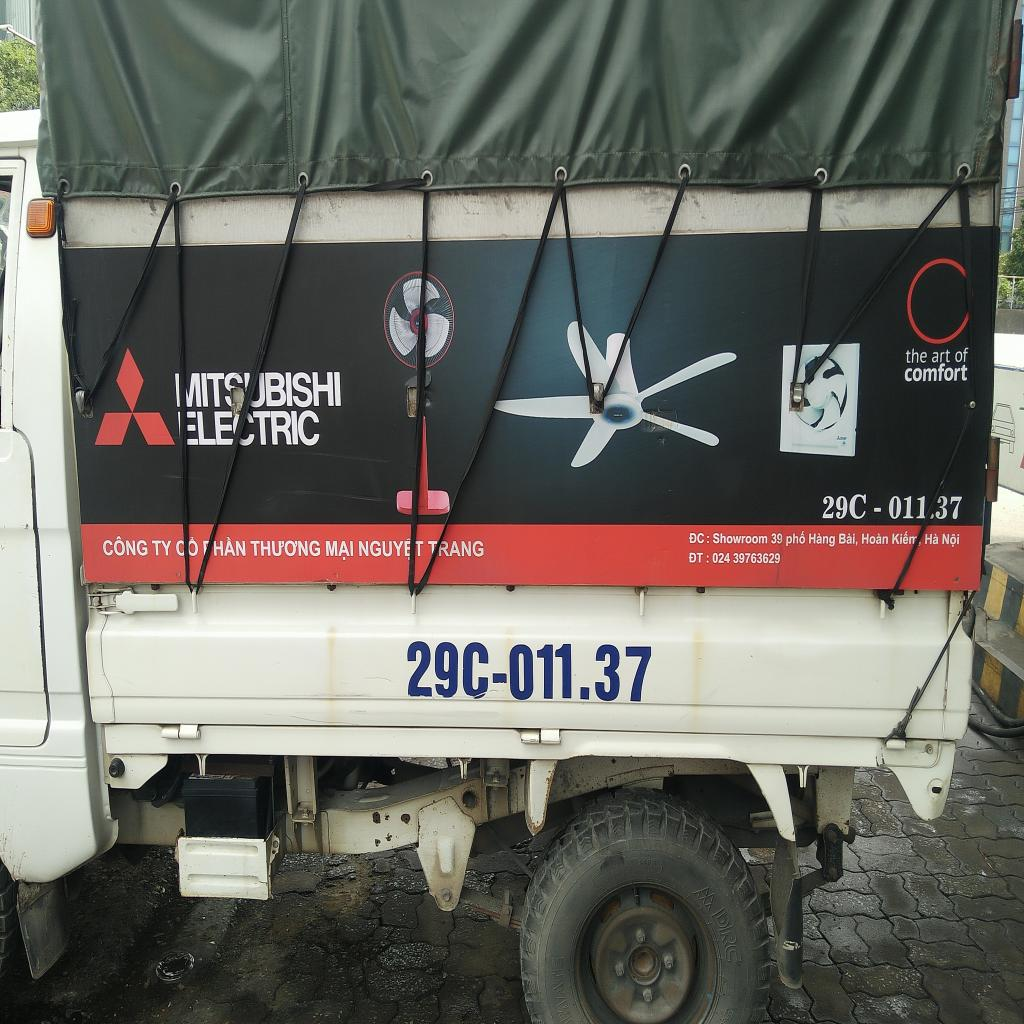text: (402, 632, 656, 703), (264, 368, 344, 412), (253, 411, 322, 450), (709, 904, 745, 964), (249, 538, 322, 560), (358, 536, 412, 564), (820, 490, 870, 520), (902, 363, 970, 385), (196, 410, 234, 446), (887, 492, 927, 522), (549, 954, 566, 1023), (427, 540, 488, 558), (711, 551, 781, 566), (200, 368, 225, 408), (932, 490, 963, 522), (102, 536, 149, 557), (711, 530, 768, 547), (324, 538, 355, 562), (213, 536, 246, 557), (904, 344, 929, 365), (807, 531, 836, 549), (860, 530, 890, 546), (150, 538, 172, 558), (784, 528, 806, 548), (891, 529, 918, 545), (837, 530, 859, 546), (685, 548, 704, 566), (932, 347, 952, 363), (942, 531, 960, 548), (954, 344, 970, 363), (187, 535, 199, 558), (174, 536, 186, 558), (687, 531, 705, 545), (924, 531, 940, 546), (770, 532, 784, 547), (414, 539, 424, 559), (705, 553, 709, 564), (706, 535, 710, 545)
